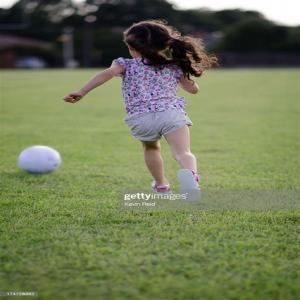Football: (17, 144, 61, 176)
